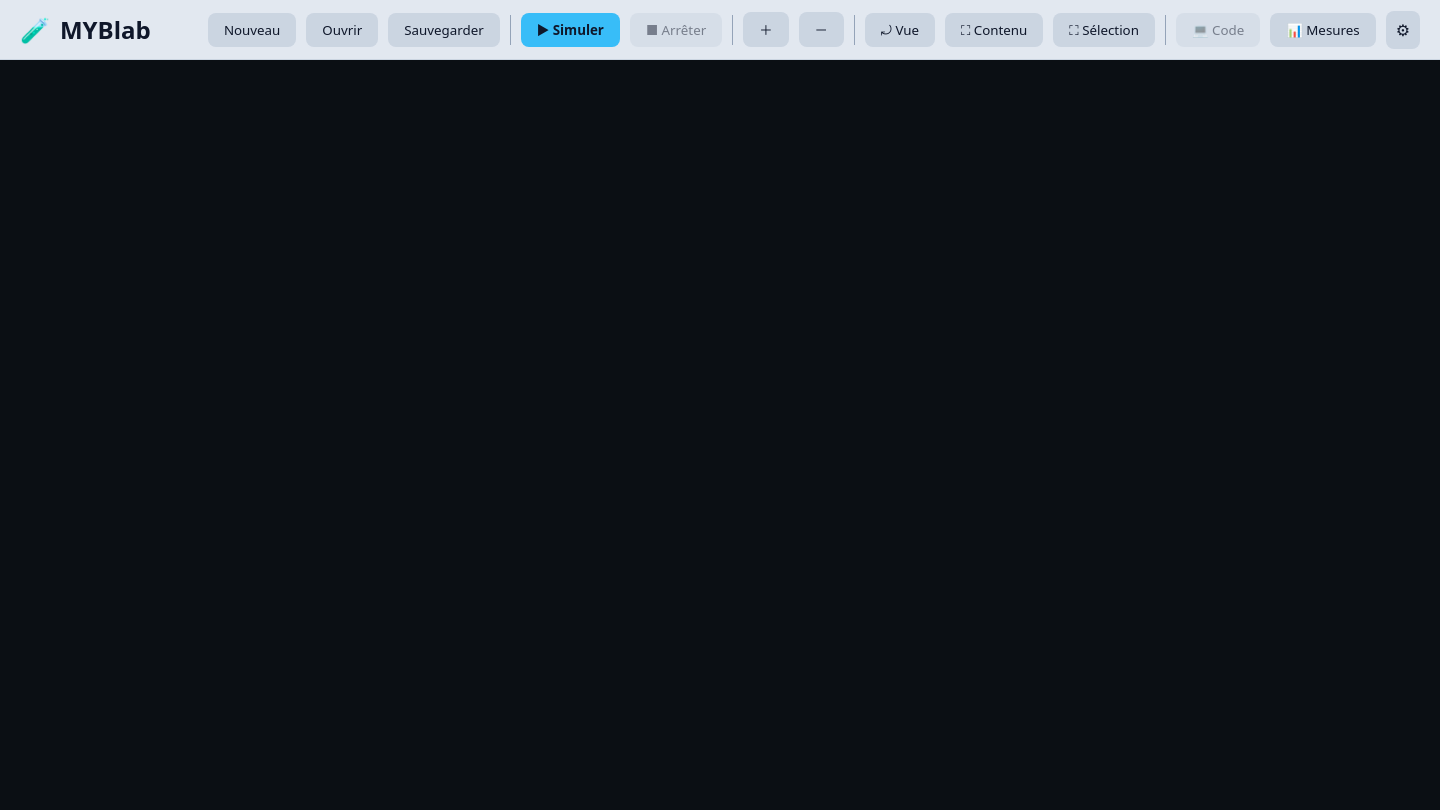
Scenario: MB-VIS-LAB-046 — SettingsPanel : ouverture/fermeture + cohérence thème (O7/F13, T28-T30) › T29 — Settings respecte theme-light : App.css déclare une surcharge réelle de fond clair pour .settings-panel (F13, avant ce ticket : aucune)
The width and height of the screenshot is (1440, 810).
Click the button titled "Paramètres": (1403, 30) top-left (1386, 10), bottom-right (1420, 48)
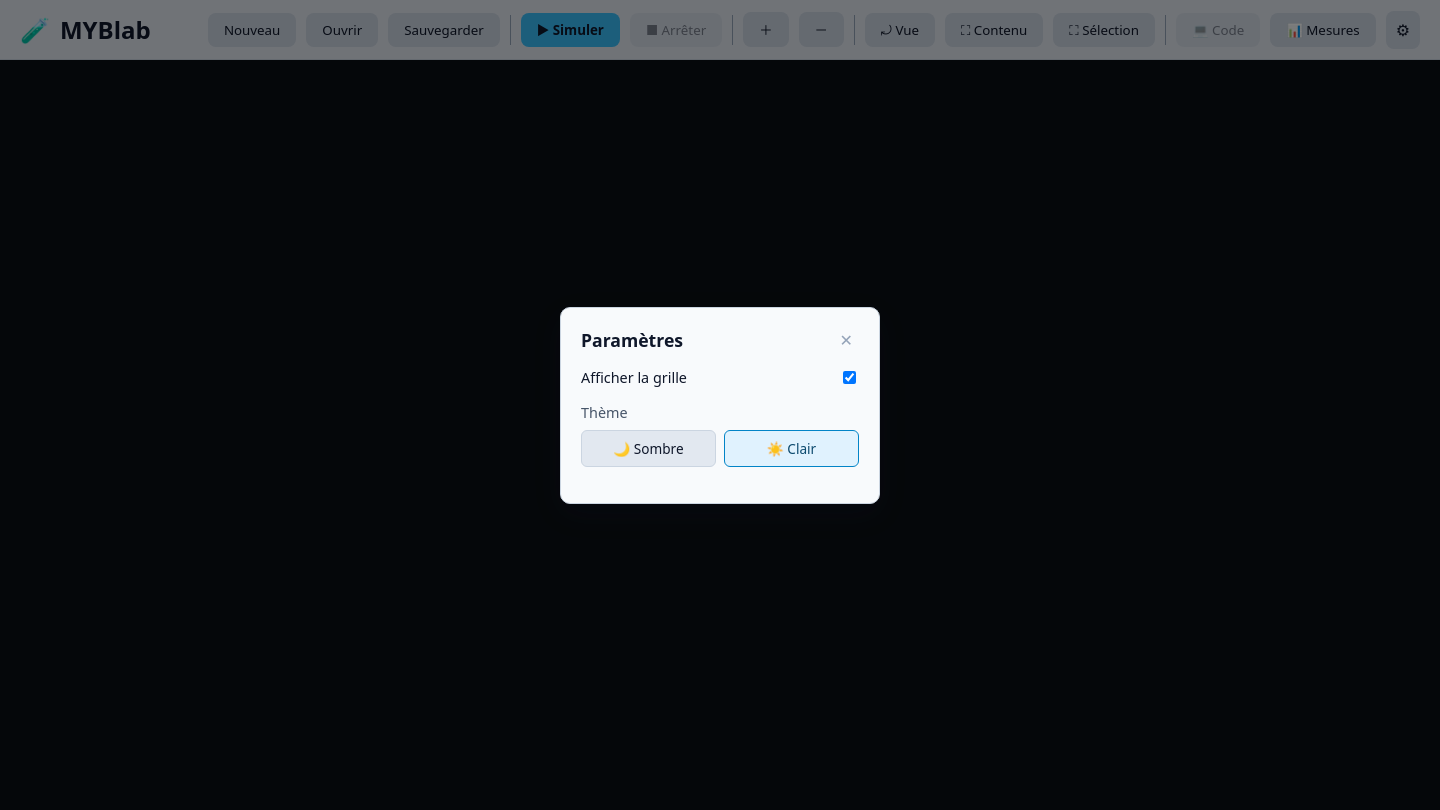
Expected: the element with class "settings-panel" is shown, top-left (560, 306), bottom-right (880, 504)
